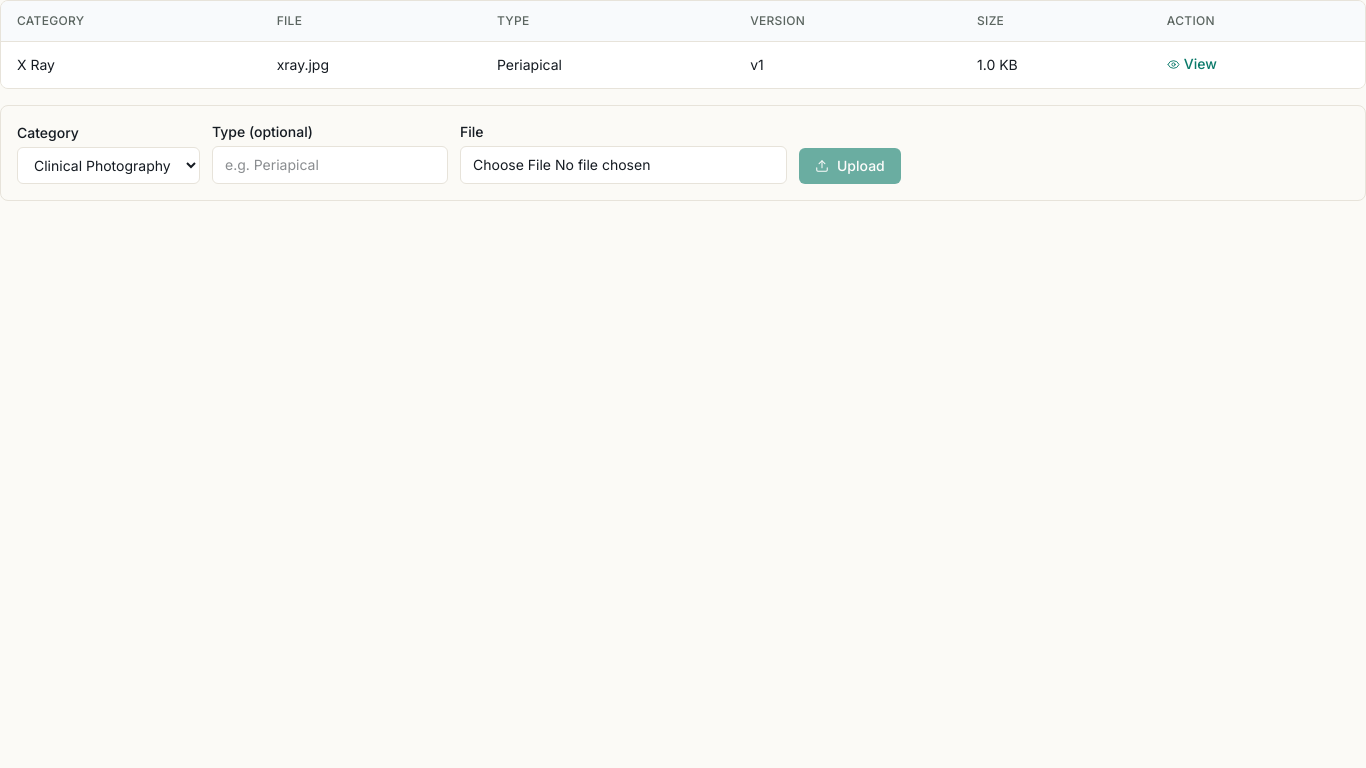
Test: AttachmentSection › lists an uploaded attachment and opens its detail modal
Expected: the text "xray.jpg" is shown, [261,42,481,88]
Click the button "View" at (1192, 64), box [1167,54,1217,74]
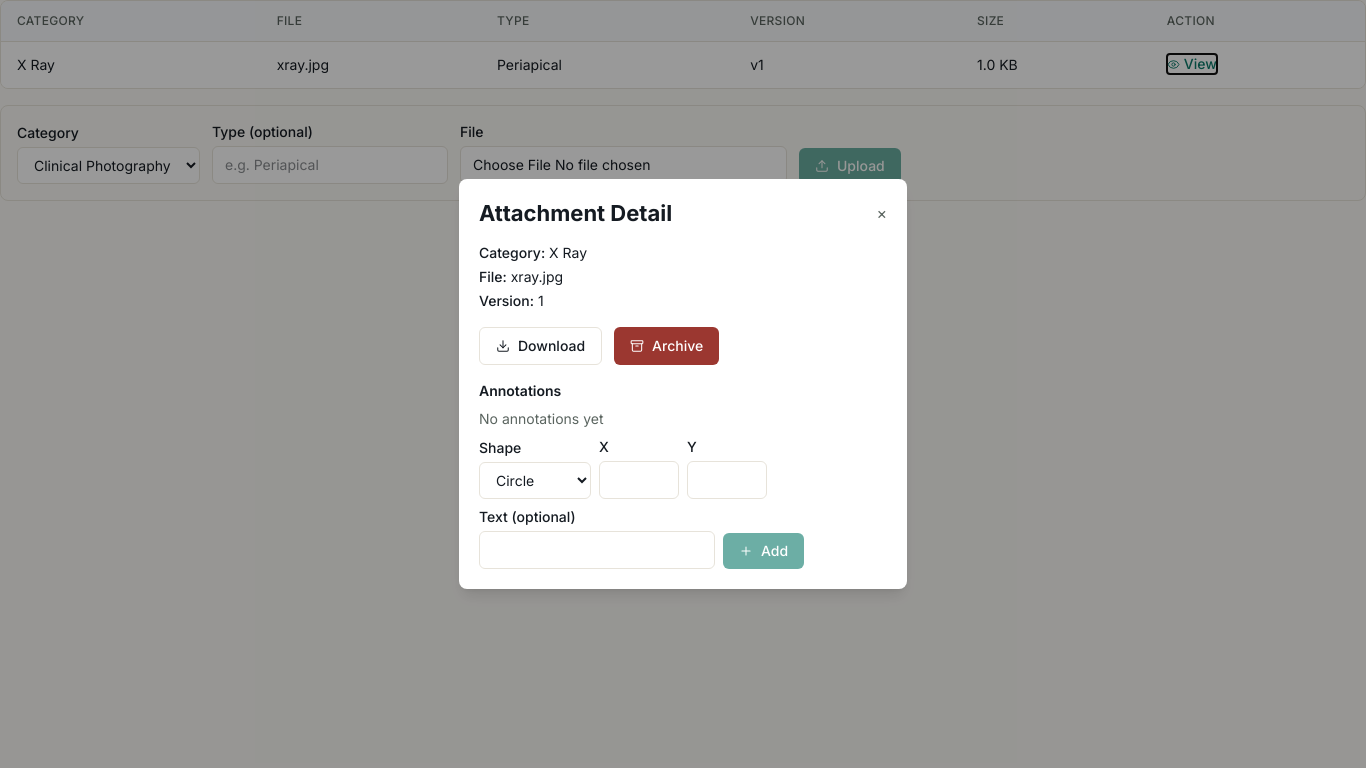
Expected: the dialog "Attachment Detail" is shown, [459,179,907,589]
Expected: the button "Download" is shown, [479,327,602,365]
